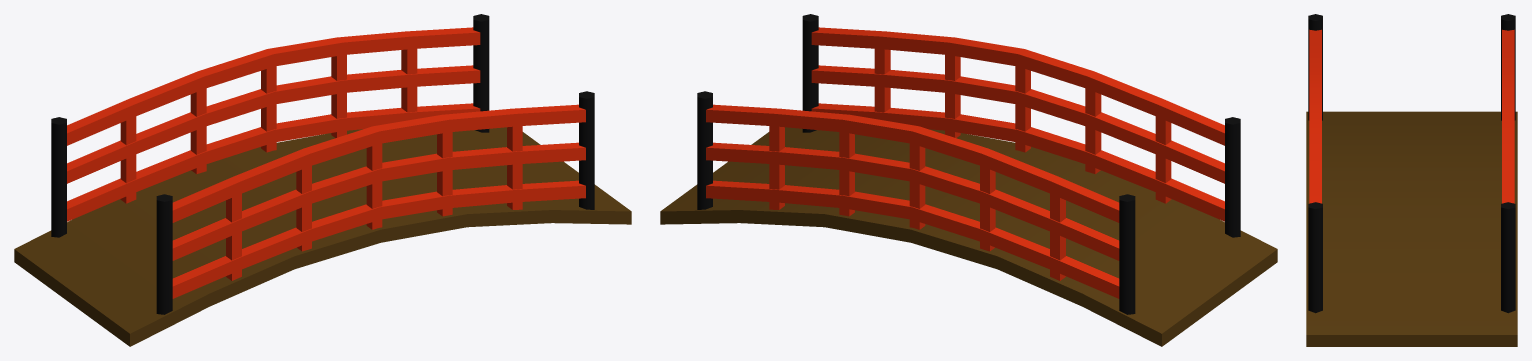
File: Environment_Bridge.fbx
The picture shows the model from 3 angles, left to right: view 1: azimuth 30°, elevation 25°; view 2: azimuth 150°, elevation 25°; view 3: azimuth 270°, elevation 25°; orthographic projection. The views are drawn at different scales.
Parts seen in each view (by area): view 1: BO_Bridge001; view 2: BO_Bridge001; view 3: BO_Bridge001.
Part boxes in pixels (x1,y1,x2,y2): BO_Bridge001: (14, 14, 631, 346); BO_Bridge001: (660, 14, 1277, 346); BO_Bridge001: (1306, 14, 1517, 346).
Bounding box in the file's own units: 1259 × 504 × 367.
